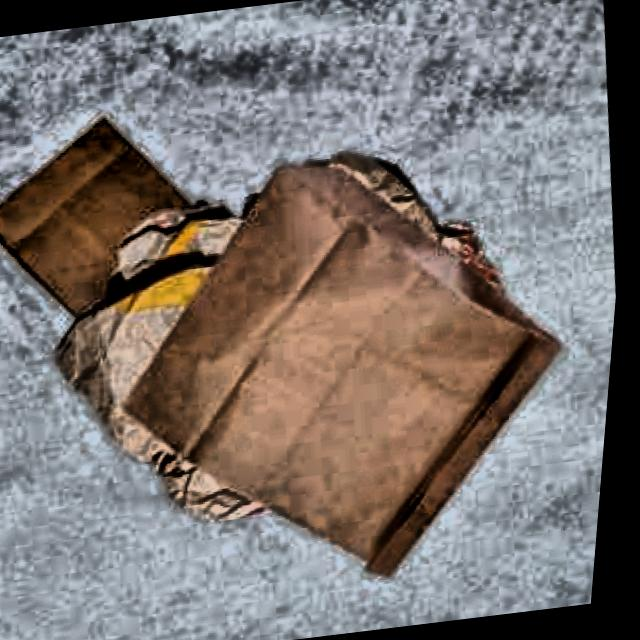Paper-bag: (96, 126, 610, 610), (30, 178, 388, 564), (0, 92, 291, 380)
